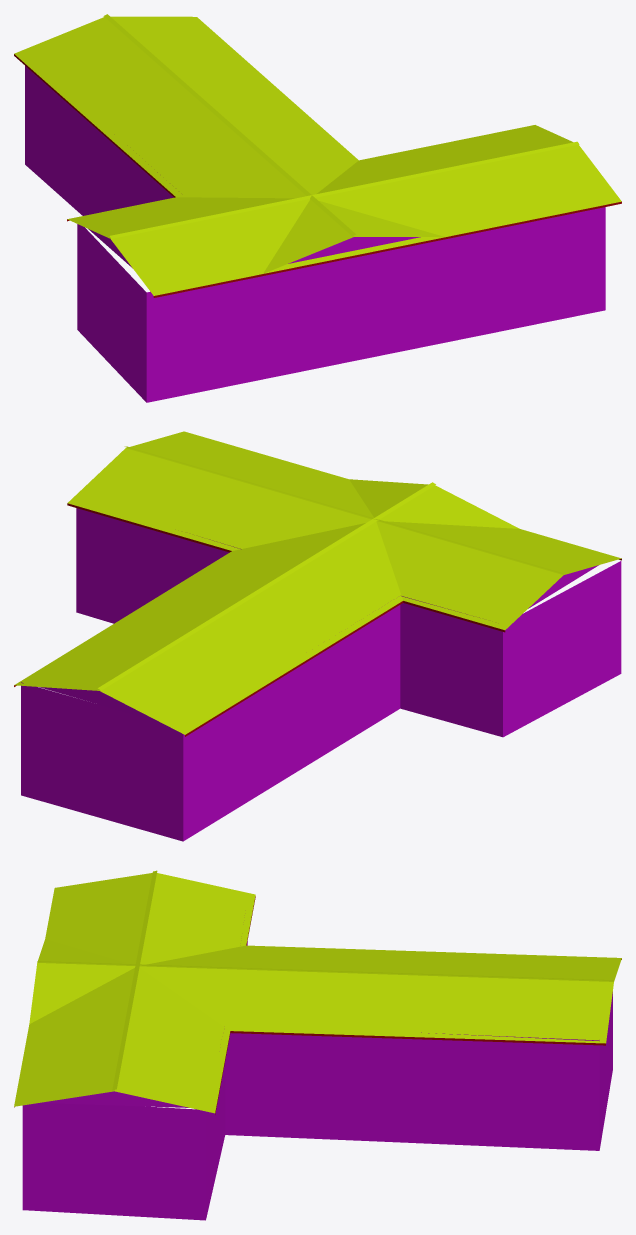
The model's file is ssv_106.glb.
The picture shows the model from 3 angles, top to bottom: view 1: azimuth 30°, elevation 25°; view 2: azimuth 150°, elevation 25°; view 3: azimuth 270°, elevation 25°; orthographic projection. The views are drawn at different scales.
Parts seen in each view (by area): view 1: ssv_106; view 2: ssv_106; view 3: ssv_106.
Boxes of the visible parts, x1=… form: ssv_106: x1=14, y1=14, x2=621, y2=402; ssv_106: x1=14, y1=431, x2=621, y2=841; ssv_106: x1=14, y1=870, x2=621, y2=1220.
Size of the model in its own units: 28.09 by 7.5 by 31.78.
